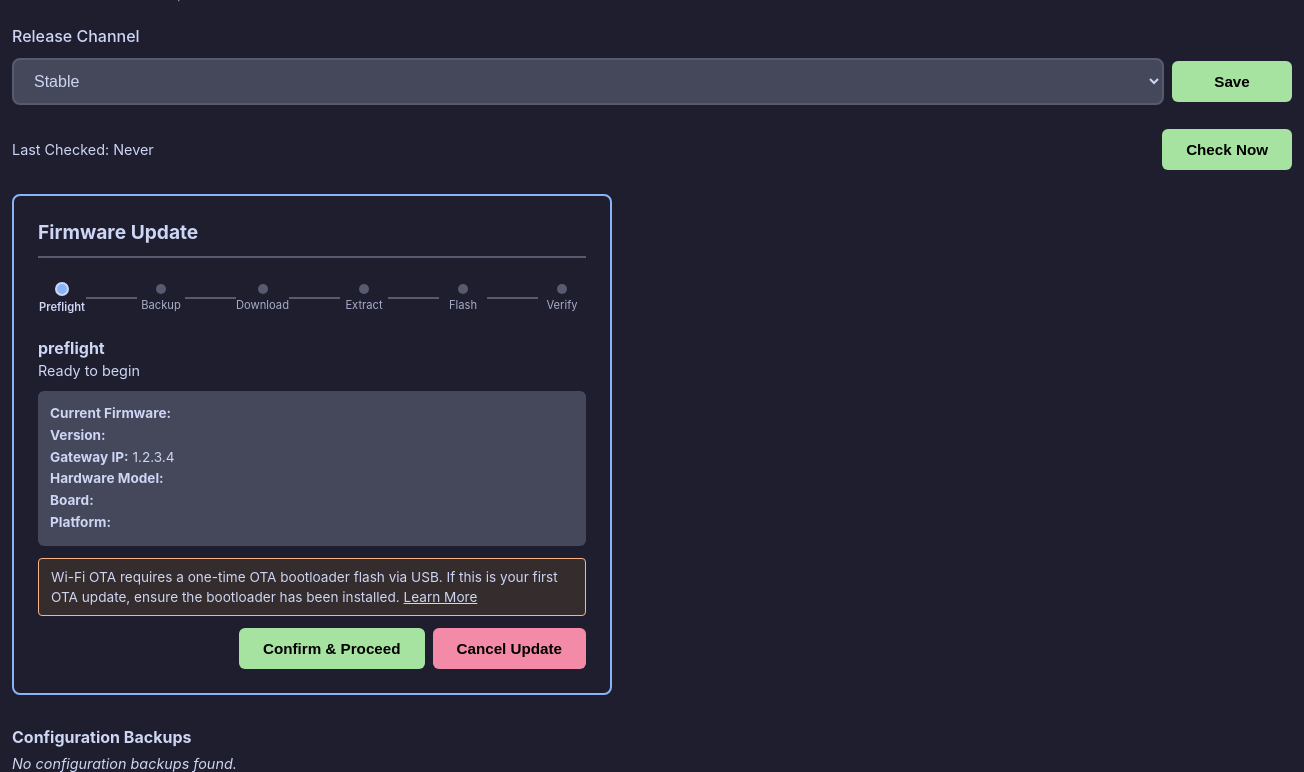
FirmwareUpdateSection — half-flash recovery panel (issue #3413) › offline node: the clear-and-retry button is disabled and the offline hint is shown
(page scrolled)
Click the button "Confirm & Proceed" at (332, 649), box x1=239 y1=628 x2=424 y2=669
(page scrolled)
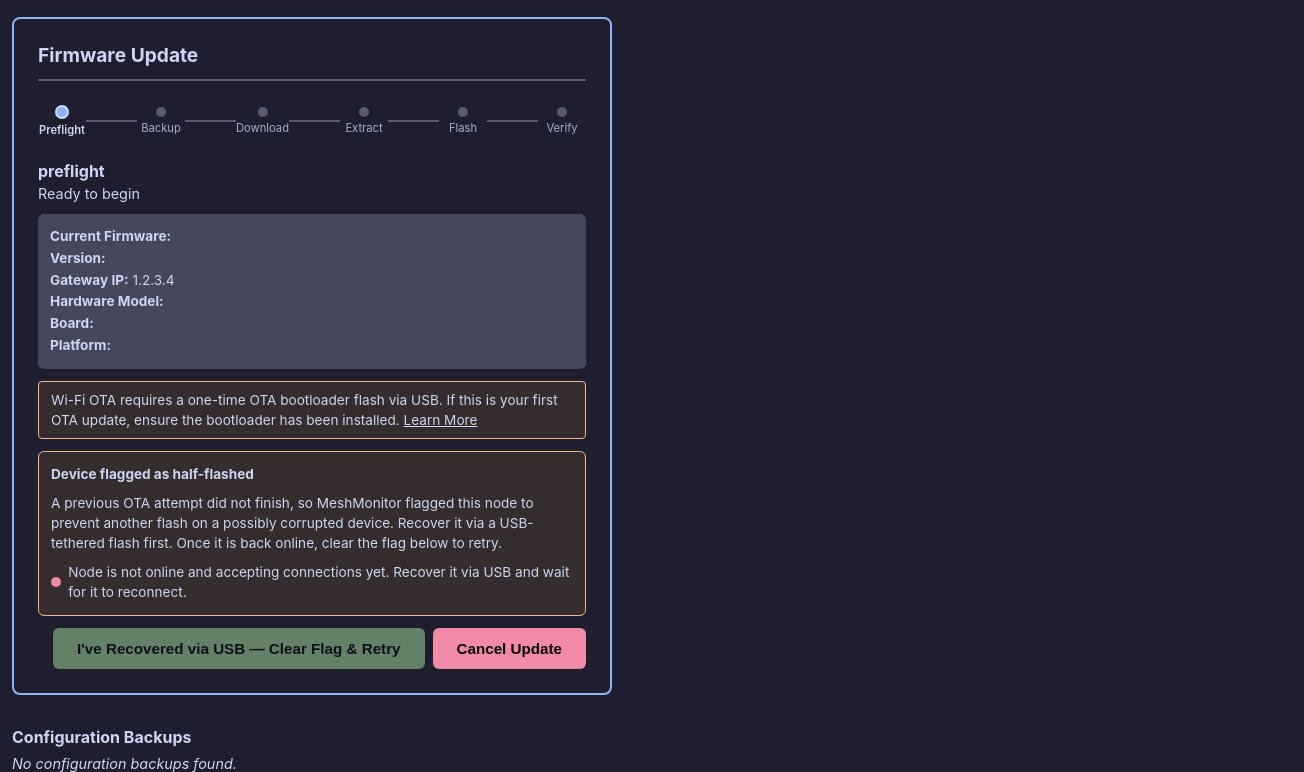
Now the button "I've Recovered via USB — Clear Flag & Retry" is disabled, box x1=53 y1=628 x2=424 y2=669
Now the text "Node is not online and accepting connections yet. Recover it via USB and wait for it to reconnect." is shown, box x1=68 y1=564 x2=569 y2=600
